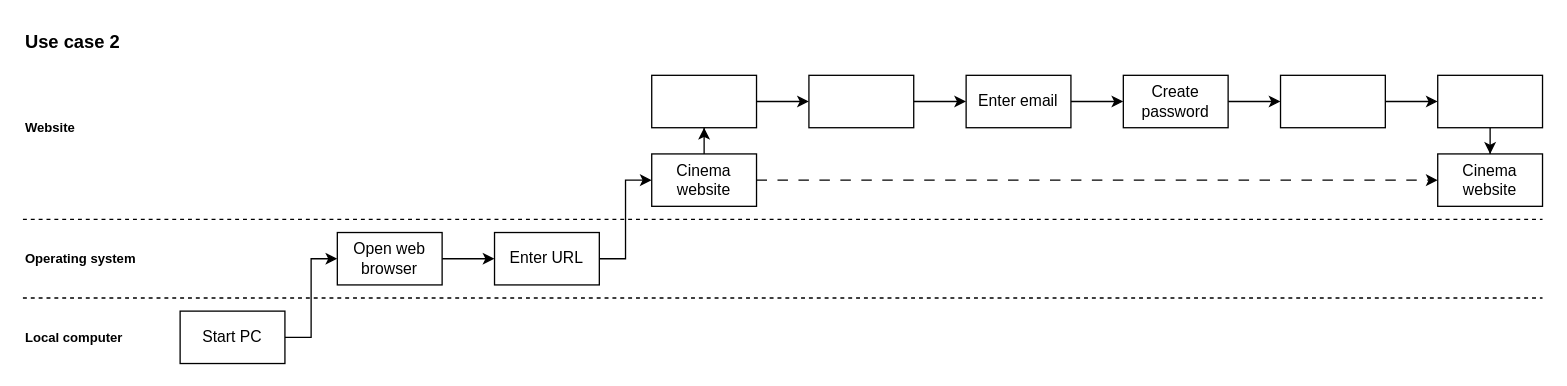
Some shapes in this 1567 by 386 pixel diagram are drawn without their labels. The shapes that lost their labels are listed below. From the top down, each one's box as (x1, y1, x2, y2) in pixels, then its label:
(650, 74, 757, 128): My profile
(808, 74, 914, 128): Create account
(1279, 74, 1385, 128): Add aditional personal info
(1436, 74, 1543, 128): Save data
